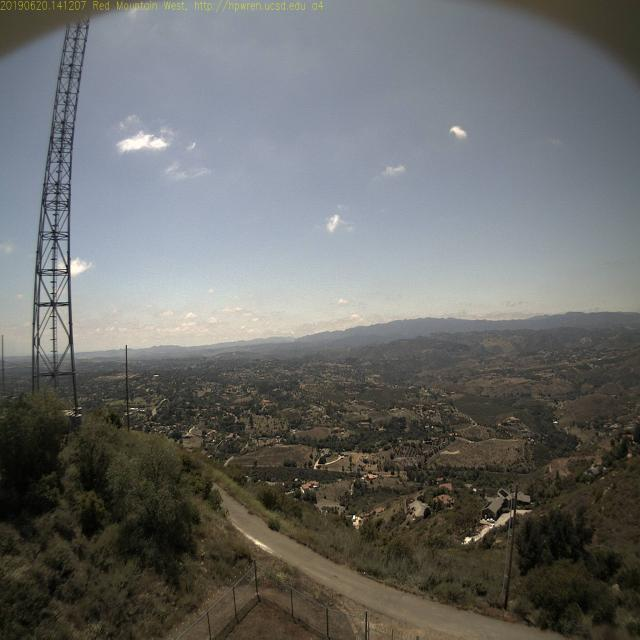smoke: (280, 332, 300, 347)
